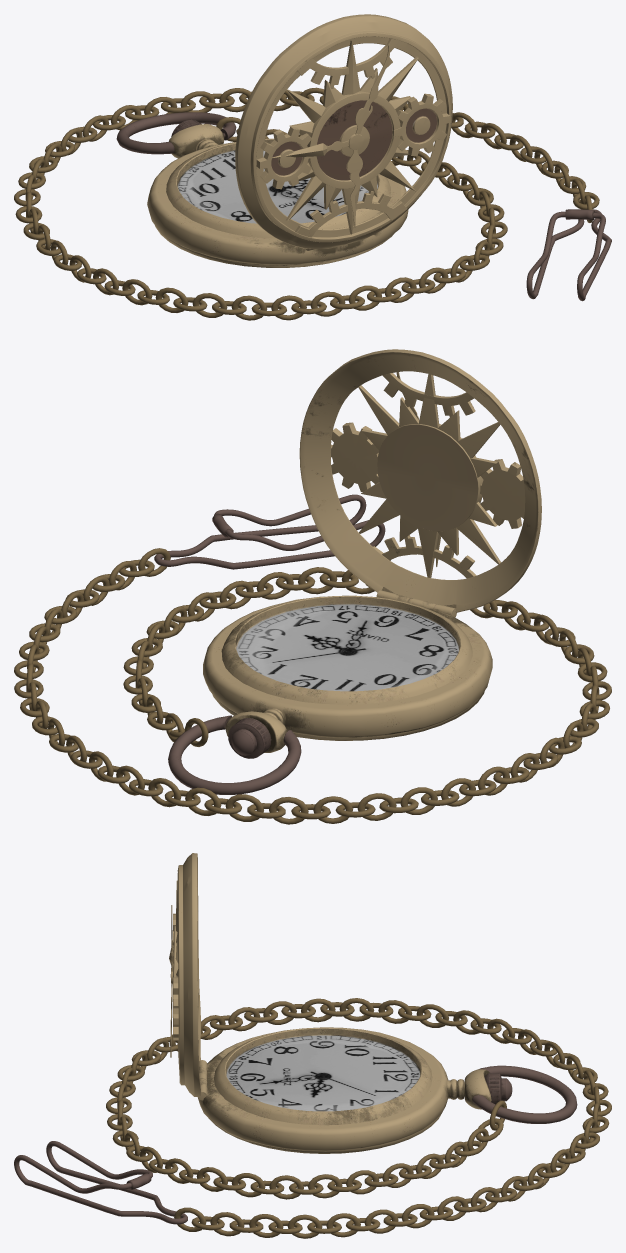
The model's file is clclclclclcl.fbx.
The picture shows the model from 3 angles, top to bottom: view 1: azimuth 30°, elevation 25°; view 2: azimuth 150°, elevation 25°; view 3: azimuth 270°, elevation 25°; orthographic projection. The views are drawn at different scales.
Parts seen in each view (by area): view 1: polySurface2269, GlassHolder_lo, MiddleBasePiece_lo, polySurface2274, polySurface2265, ChainPin_lo, polySurface2256, ChainRing_lo, polySurface2251, polySurface2268, Backing_lo, polySurface2272 (+6 smaller); view 2: GlassHolder_lo, polySurface2269, MiddleBasePiece_lo, polySurface2274, ChainPin_lo, ChainRing_lo, polySurface2265, polySurface2256, polySurface2251, polySurface2268, TopGear_lo, Backing_lo (+2 smaller); view 3: GlassHolder_lo, MiddleBasePiece_lo, polySurface2269, ChainPin_lo, ChainRing_lo, Backing_lo.
Part boxes in pixels (x1=…): polySurface2269: x1=235, y1=14, x2=452, y2=248; GlassHolder_lo: x1=166, y1=138, x2=390, y2=238; MiddleBasePiece_lo: x1=147, y1=124, x2=408, y2=264; polySurface2274: x1=307, y1=91, x2=400, y2=188; polySurface2265: x1=392, y1=93, x2=450, y2=156; ChainPin_lo: x1=526, y1=209, x2=611, y2=301; polySurface2256: x1=256, y1=126, x2=314, y2=189; ChainRing_lo: x1=116, y1=112, x2=236, y2=154; polySurface2251: x1=297, y1=38, x2=406, y2=88; polySurface2268: x1=295, y1=191, x2=406, y2=237; Backing_lo: x1=155, y1=226, x2=394, y2=267; polySurface2272: x1=355, y1=45, x2=389, y2=134; GlassHolder_lo: x1=221, y1=595, x2=472, y2=704; polySurface2269: x1=299, y1=349, x2=541, y2=612; MiddleBasePiece_lo: x1=203, y1=590, x2=492, y2=752; polySurface2274: x1=377, y1=424, x2=483, y2=531; ChainPin_lo: x1=154, y1=494, x2=385, y2=569; ChainRing_lo: x1=168, y1=715, x2=301, y2=794; polySurface2265: x1=331, y1=422, x2=379, y2=491; polySurface2256: x1=480, y1=459, x2=525, y2=528; polySurface2251: x1=382, y1=373, x2=475, y2=417; polySurface2268: x1=373, y1=535, x2=476, y2=578; TopGear_lo: x1=228, y1=718, x2=271, y2=758; Backing_lo: x1=212, y1=691, x2=484, y2=740; GlassHolder_lo: x1=214, y1=1028, x2=432, y2=1125; MiddleBasePiece_lo: x1=197, y1=1027, x2=491, y2=1151; polySurface2269: x1=177, y1=853, x2=200, y2=1096; ChainPin_lo: x1=14, y1=1141, x2=187, y2=1224; ChainRing_lo: x1=472, y1=1065, x2=577, y2=1123; Backing_lo: x1=208, y1=1112, x2=442, y2=1153.
Bounding box in the file's own units: 621 × 320 × 685.
